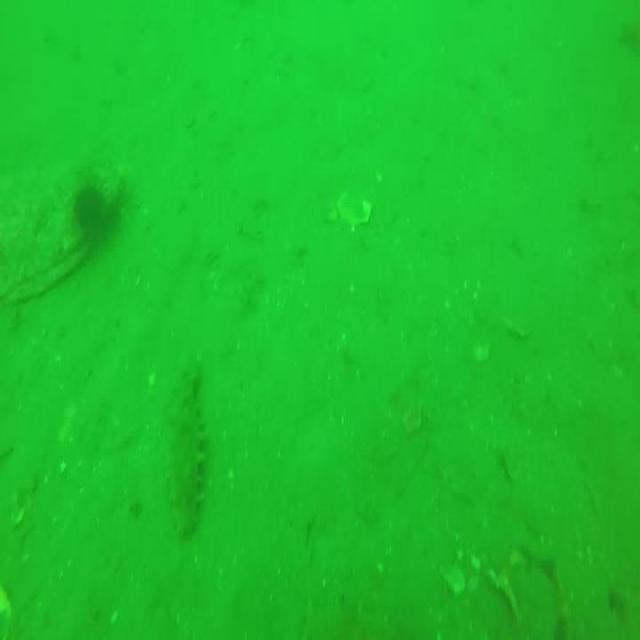echinus: (66, 177, 108, 245)
holothurian: (164, 373, 208, 540)
